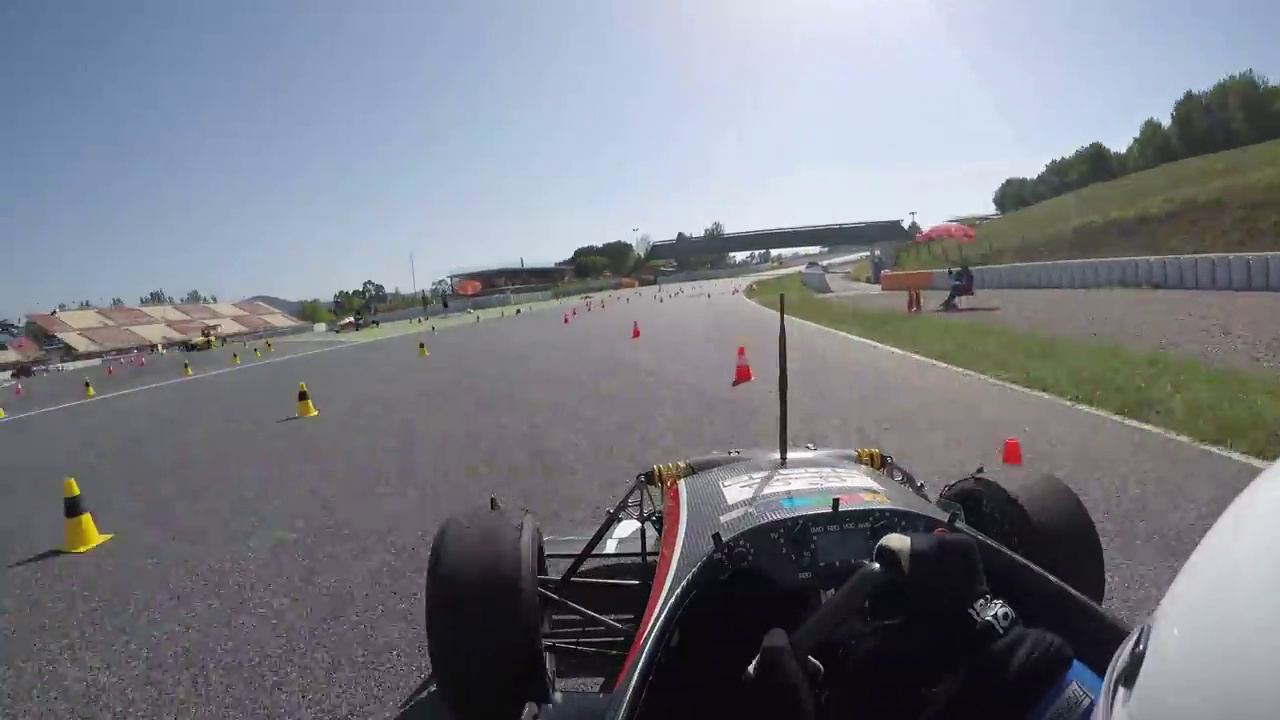Cone: (57, 476, 104, 556), (291, 380, 320, 421), (729, 345, 758, 386)
